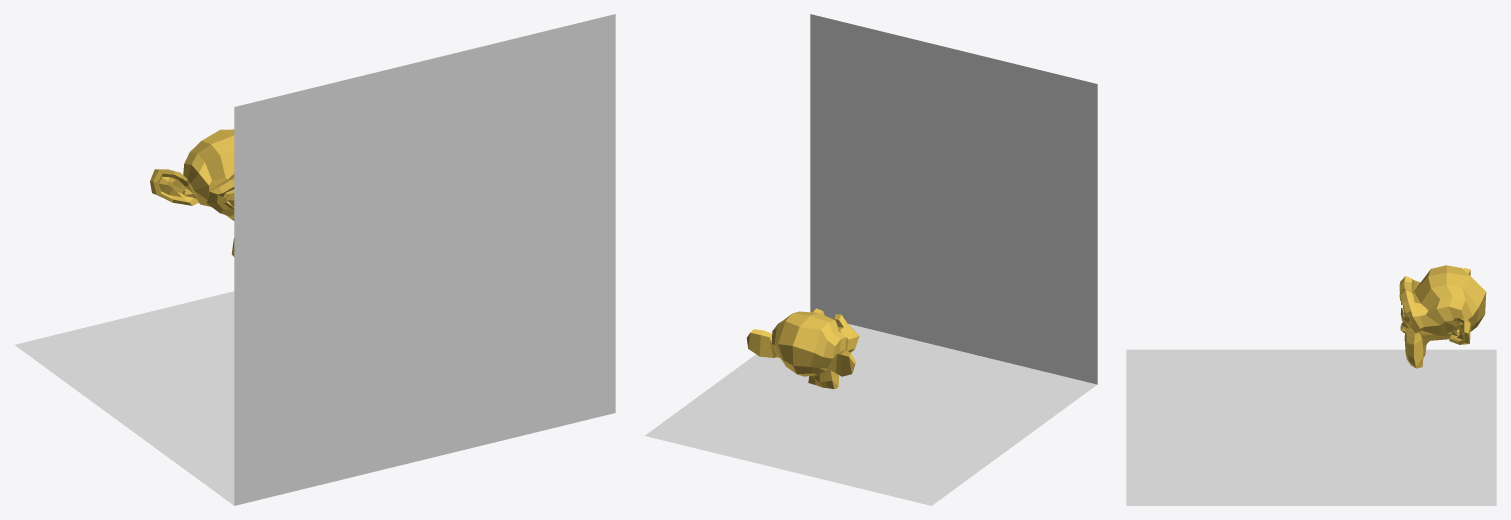
File: one_mirror.fbx
3 renders of one model, left to right at view 1: azimuth 30°, elevation 25°; view 2: azimuth 150°, elevation 25°; view 3: azimuth 270°, elevation 25°, orthographic. The views are drawn at different scales.
Parts seen in each view (by area): view 1: Plane.001, Plane, Suzanne; view 2: Plane.001, Plane, Suzanne; view 3: Plane, Suzanne.
Boxes of the visible parts, box(x1,y1,x2,y2) form: Plane.001: box(234, 14, 615, 505); Plane: box(15, 291, 234, 505); Suzanne: box(150, 129, 234, 256); Plane.001: box(810, 14, 1097, 384); Plane: box(645, 324, 1096, 505); Suzanne: box(746, 308, 859, 389); Plane: box(1126, 349, 1496, 505); Suzanne: box(1399, 265, 1486, 368).
Size of the model in its own units: 20 by 20 by 20.
